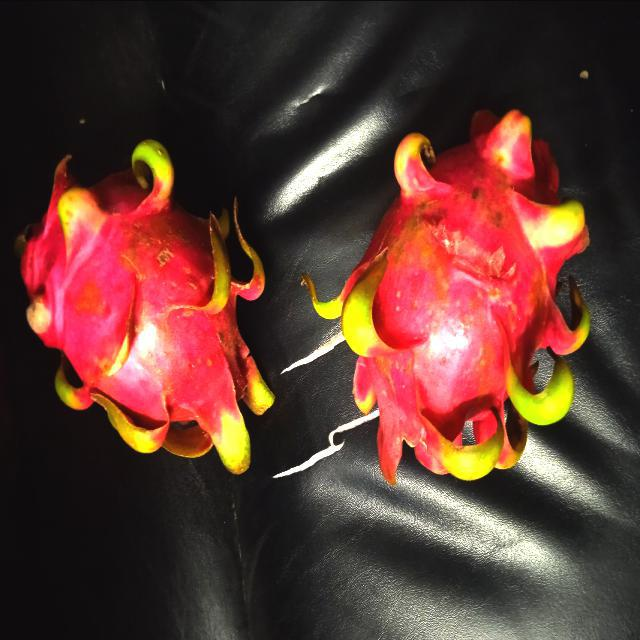do: (306, 102, 600, 488), (19, 135, 279, 477)
